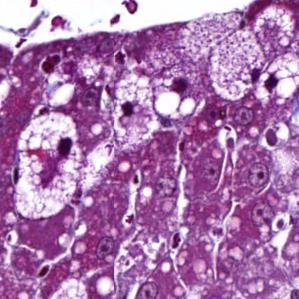ballooning: (12, 112, 83, 220), (255, 51, 299, 105)
